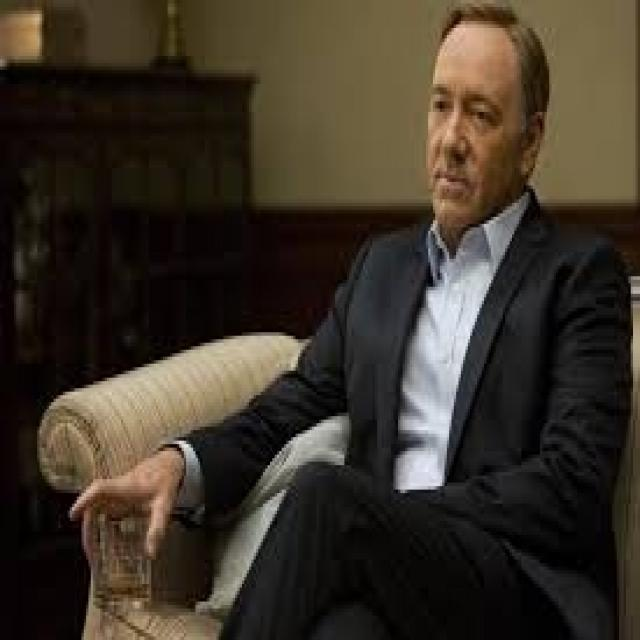sitting: (137, 7, 639, 640)
